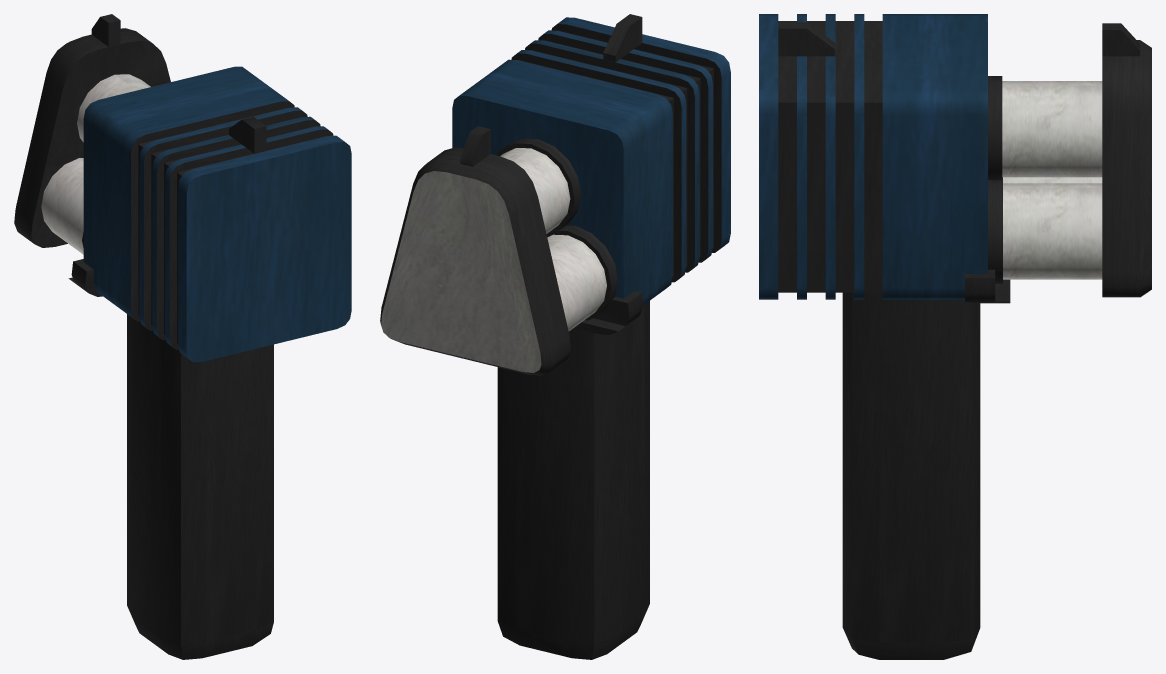
Rendered from kralov.FBX.
3 renders of one model, left to right at view 1: azimuth 30°, elevation 25°; view 2: azimuth 150°, elevation 25°; view 3: azimuth 270°, elevation 25°, orthographic. The views are drawn at different scales.
Visible parts, largest first — view 1: kralov; view 2: kralov; view 3: kralov.
Boxes of the visible parts, x1=… form: kralov: x1=14, y1=14, x2=351, y2=659; kralov: x1=380, y1=14, x2=730, y2=659; kralov: x1=759, y1=14, x2=1151, y2=659.
Bounding box in the file's own units: 12.27 × 20.6 × 35.66.
